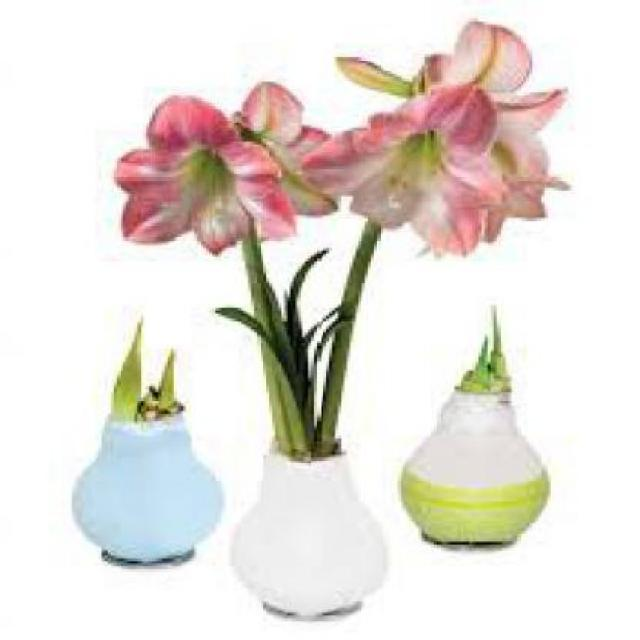Flower: (296, 84, 512, 256), (113, 95, 299, 256)
